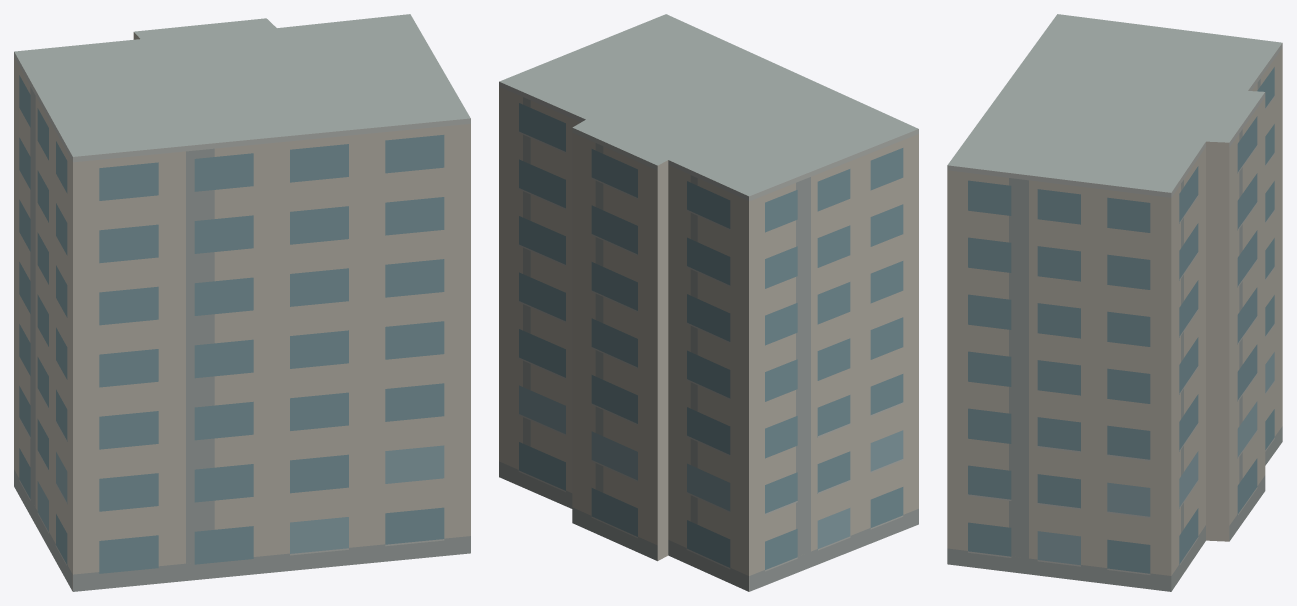
File: survey-upis-32872876.glb
The picture shows the model from 3 angles, left to right: view 1: azimuth 30°, elevation 25°; view 2: azimuth 150°, elevation 25°; view 3: azimuth 270°, elevation 25°; orthographic projection. The views are drawn at different scales.
Visible parts, largest first — view 1: survey-upis-32872876.tmp; view 2: survey-upis-32872876.tmp; view 3: survey-upis-32872876.tmp.
Boxes of the visible parts, bbox=[...] form: survey-upis-32872876.tmp: bbox=[14, 14, 470, 591]; survey-upis-32872876.tmp: bbox=[499, 14, 918, 591]; survey-upis-32872876.tmp: bbox=[947, 14, 1282, 591].
Size of the model in its own units: 18.81 by 19.55 by 14.9.
